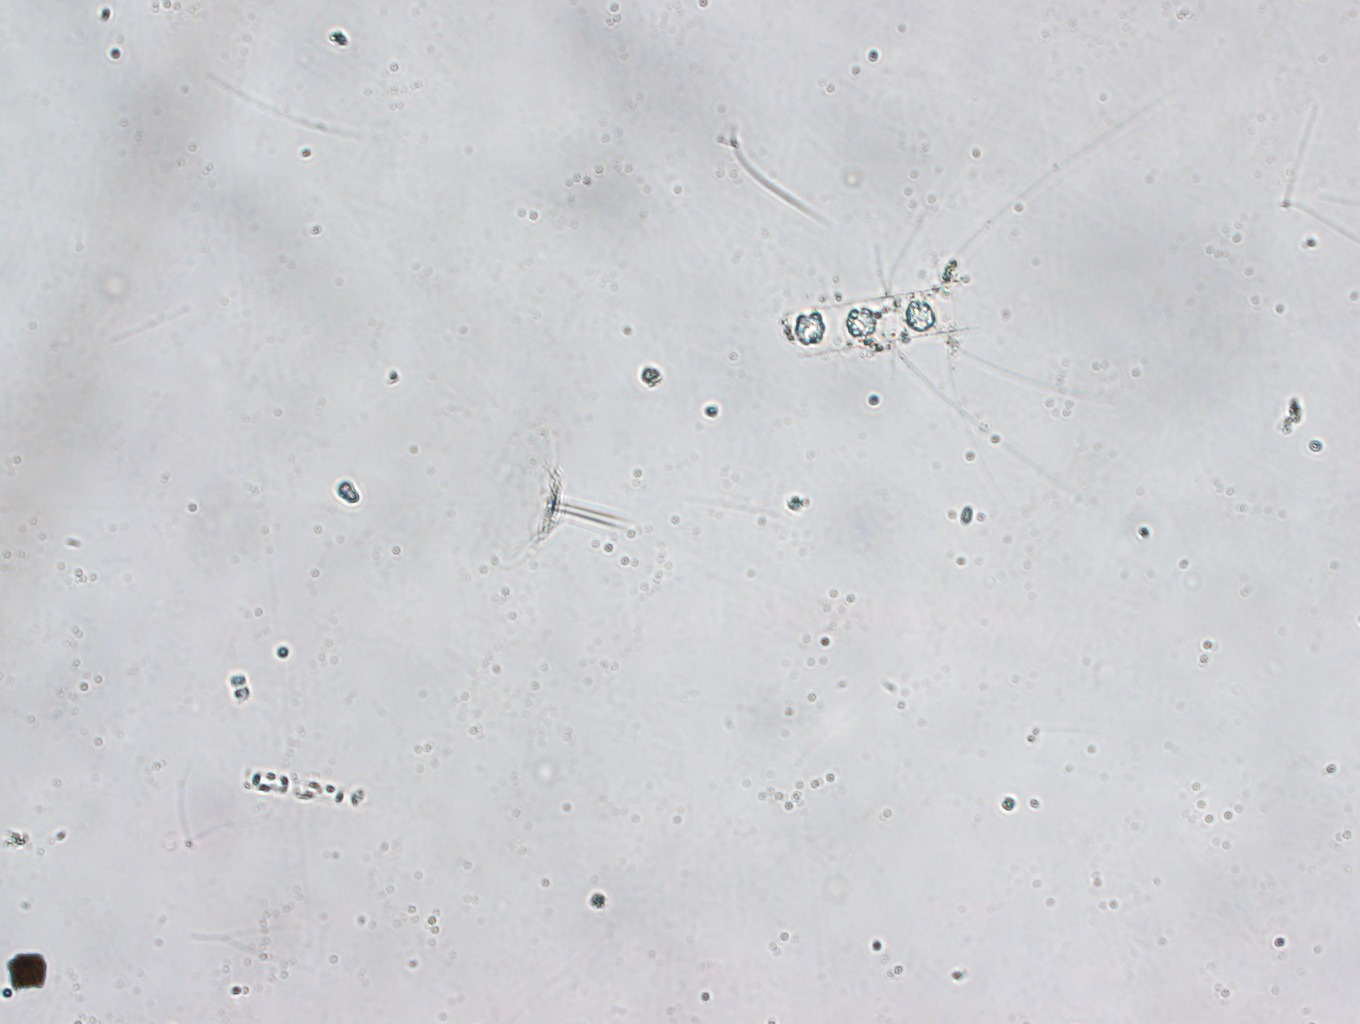chaetoceros: (777, 79, 1185, 500)
